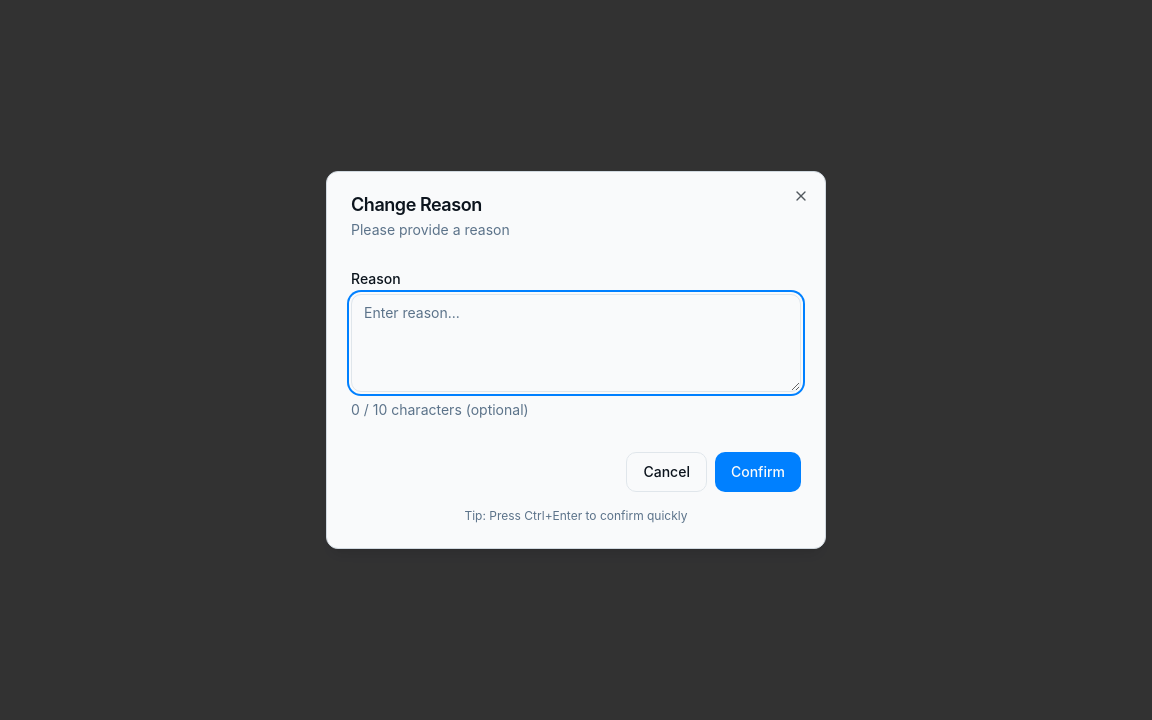
Test: AuditReasonDialog › validates maximum length
This screenshot has width=1152, height=720.
Type "This is a very long reason that exceeds the limit" into the text box with placeholder "Enter reason..." at point(576, 343), box x1=351 y1=294 x2=801 y2=392
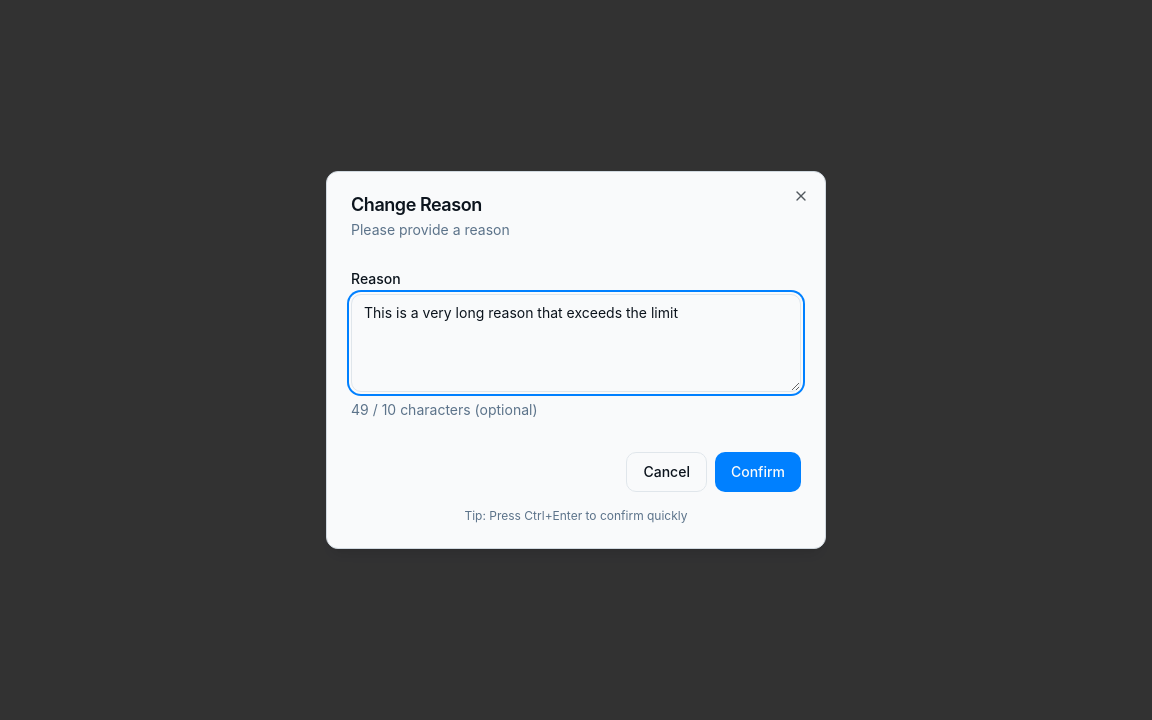
Click the button "Confirm" at point(758, 472), box x1=715 y1=452 x2=801 y2=492
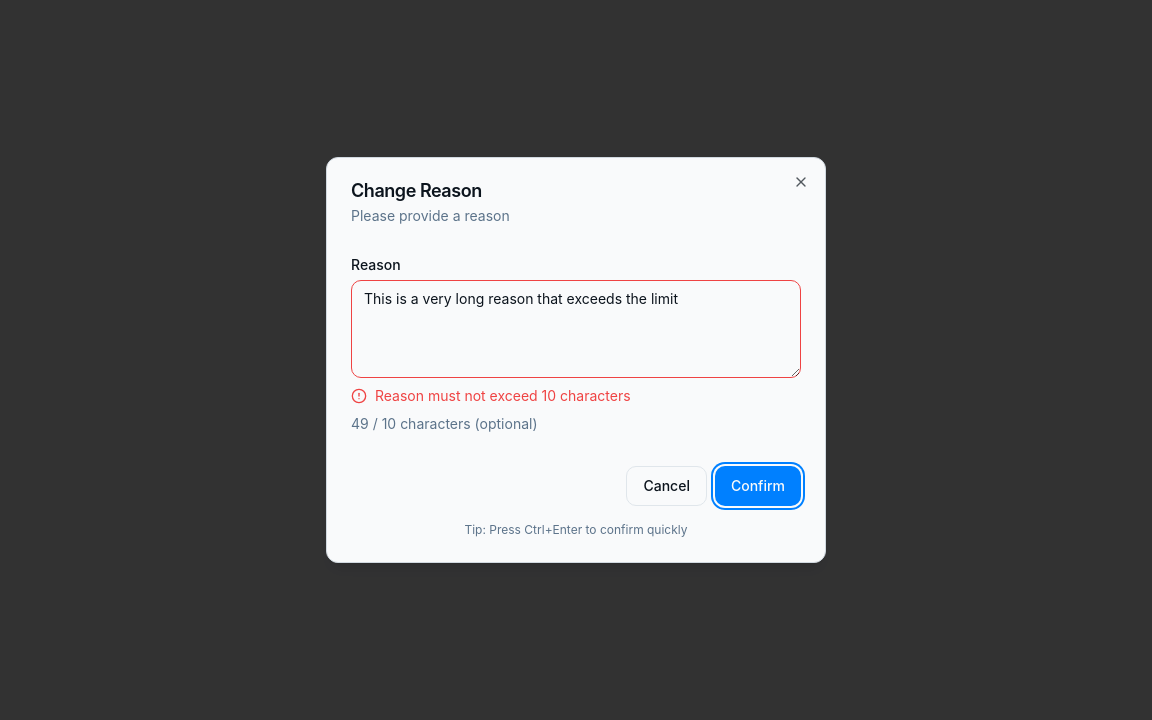
Result: the text "Reason must not exceed 10 characters" is shown at x1=375 y1=386 x2=631 y2=406
